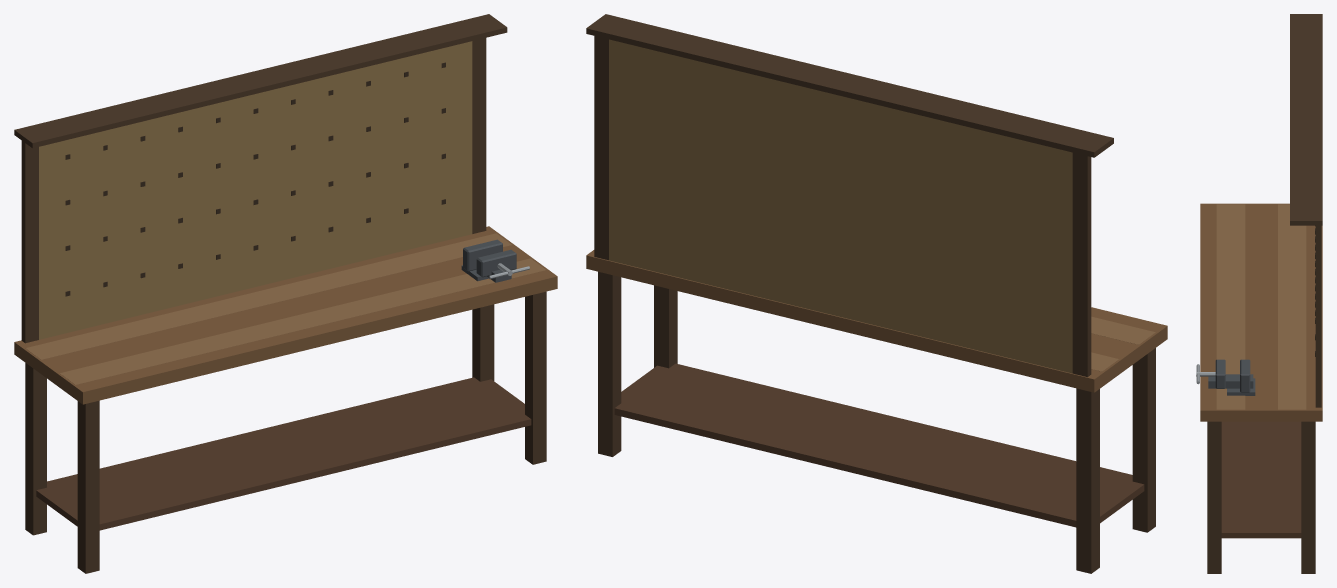
Rendered from etabli.glb.
3 views of the same model, side by side, from view 1: azimuth 30°, elevation 25°; view 2: azimuth 150°, elevation 25°; view 3: azimuth 270°, elevation 25° (orthographic). The views are drawn at different scales.
Visible parts, largest first — view 1: pegboard, shelf, top, planks, legs, rack, posts, holes, jaw_moving, jaw_fixed; view 2: pegboard, shelf, legs, rack, top, posts, planks; view 3: top, planks, shelf, rack, legs, posts, vise_rail, jaw_fixed, jaw_moving, vise_base.
Part boxes in pixels (box(x1,y1,x2,y2)): pegboard: box(39, 41, 472, 339); shelf: box(36, 377, 531, 530); top: box(14, 226, 557, 404); planks: box(25, 233, 546, 384); legs: box(25, 291, 546, 573); rack: box(14, 14, 507, 148); posts: box(21, 38, 486, 343); holes: box(65, 62, 445, 296); jaw_moving: box(476, 249, 516, 277); jaw_fixed: box(463, 239, 502, 271); pegboard: box(609, 39, 1072, 373); shelf: box(614, 363, 1144, 527); legs: box(598, 271, 1155, 573); rack: box(586, 14, 1113, 157); top: box(586, 250, 1167, 392); posts: box(594, 36, 1091, 376); planks: box(1091, 316, 1155, 371); top: box(1200, 203, 1322, 421); planks: box(1216, 204, 1306, 409); shelf: box(1221, 421, 1301, 538); rack: box(1290, 14, 1322, 225); legs: box(1207, 421, 1315, 573); posts: box(1315, 225, 1321, 407); vise_rail: box(1208, 374, 1253, 388); jaw_fixed: box(1240, 359, 1250, 392); jaw_moving: box(1215, 359, 1225, 388); vise_base: box(1227, 378, 1255, 395).
Bounding box in the file's own units: 2.4 × 1.92 × 0.62.
8 materials, 8 textured.
